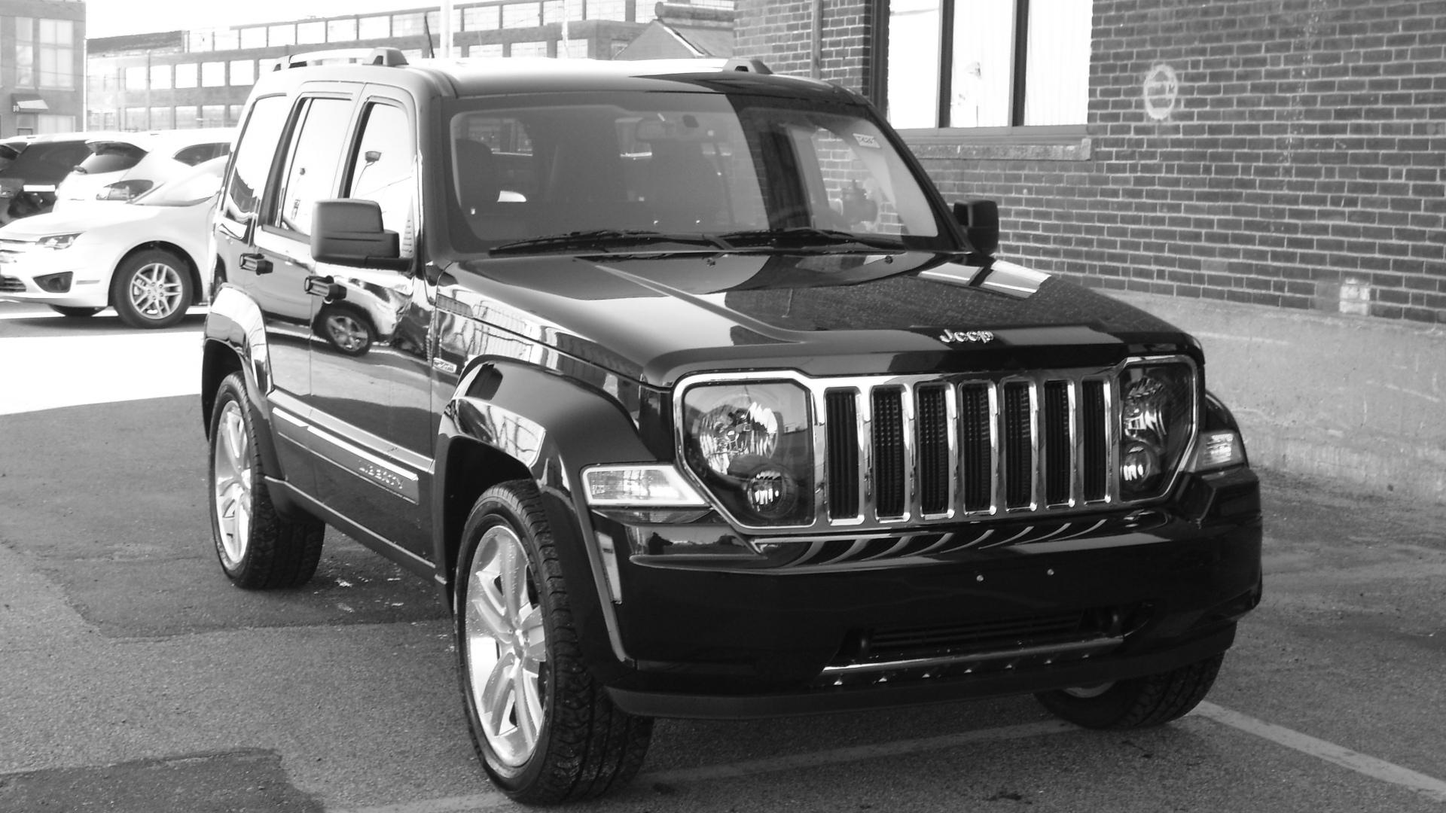car: (198, 41, 1270, 811)
